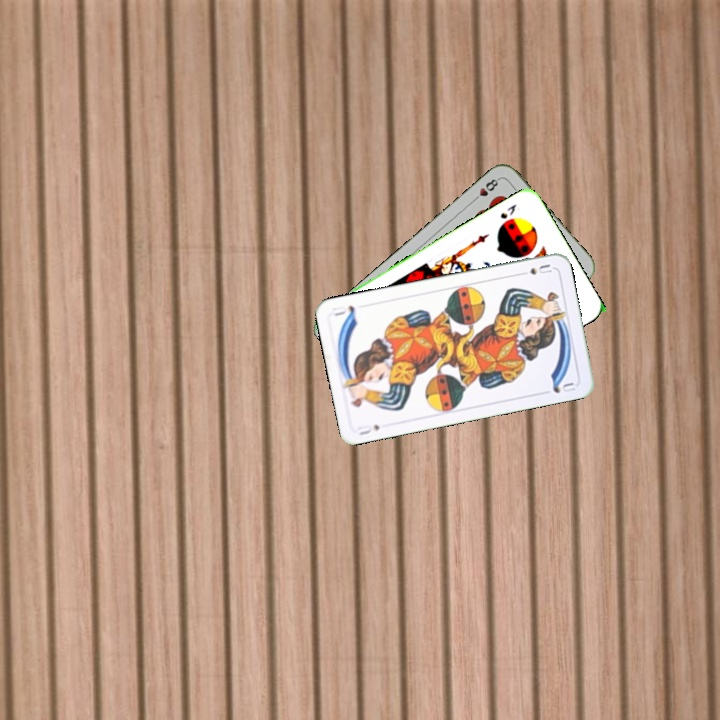H8: (469, 174, 502, 205)
SK: (496, 200, 519, 222)
SU: (515, 260, 555, 278), (354, 420, 382, 438)
